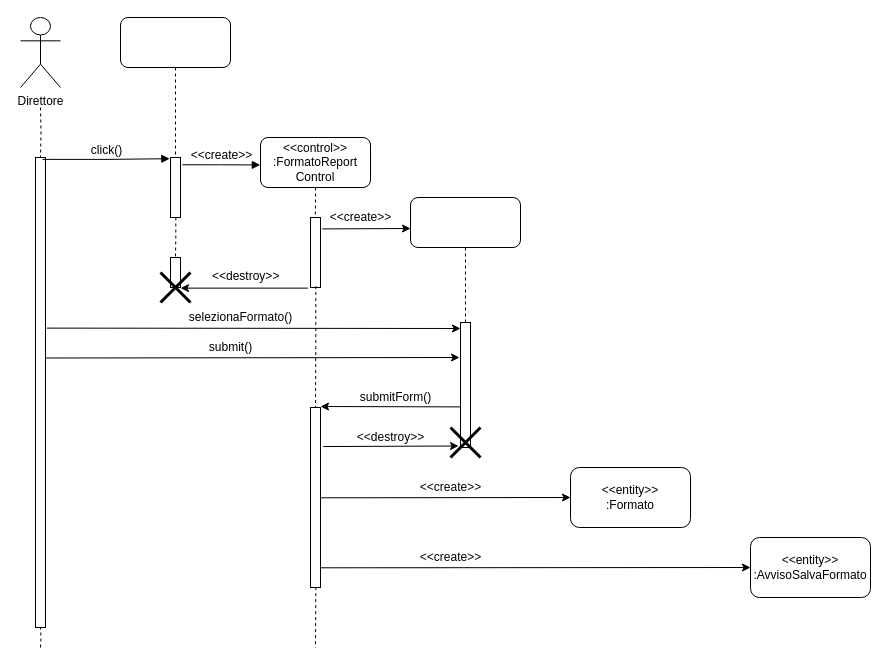
The diagram is 888 pixels wide and 666 high, and some of its shapes have lost their labels. Here are the shapes that lost their labels. From the top down, the centre of each, then its label:
the point at 175,42: <<boundary>> :SelezionaFormato Button
the point at 465,222: <<boundary>> :SelezionaFormato Form
